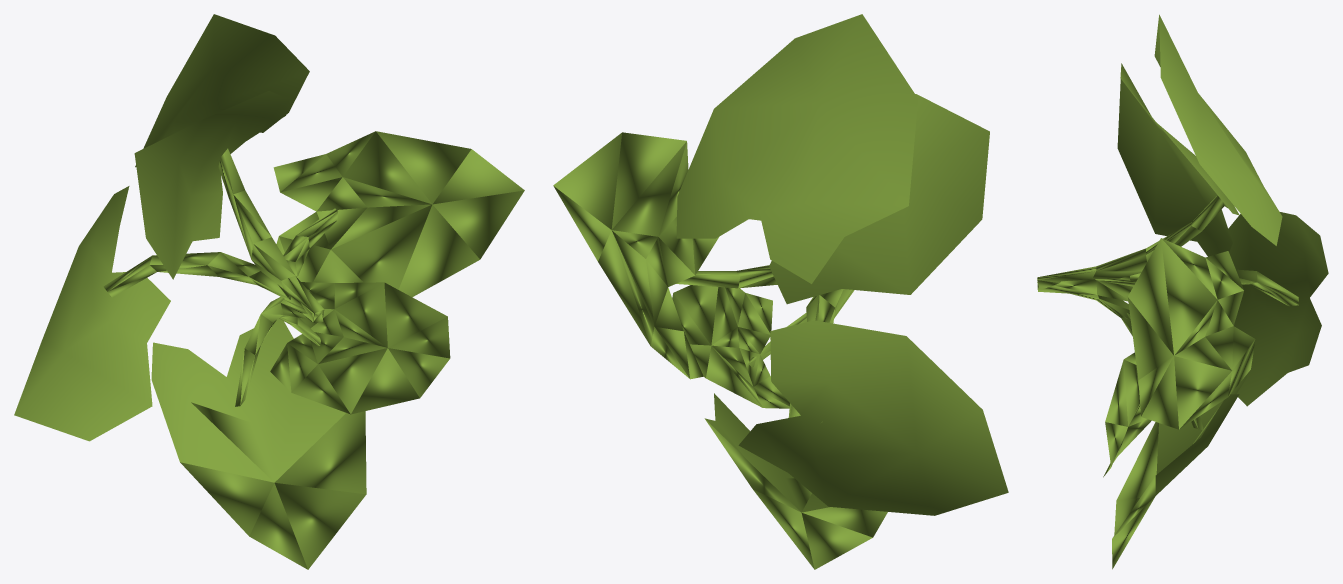
Rendered from Bush_Lopukh.FBX.
3 renders of one model, left to right at view 1: azimuth 30°, elevation 25°; view 2: azimuth 150°, elevation 25°; view 3: azimuth 270°, elevation 25°, orthographic. The views are drawn at different scales.
Parts seen in each view (by area): view 1: lopuh_type1_002; view 2: lopuh_type1_002; view 3: lopuh_type1_002.
Part boxes in pixels (x1,y1,x2,y2): lopuh_type1_002: (14,14,524,569); lopuh_type1_002: (553,14,1008,569); lopuh_type1_002: (1037,14,1328,569).
Bounding box in the file's own units: 73.11 × 82.74 × 41.69.
